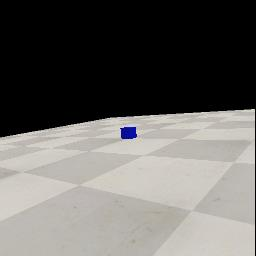box: (120, 127, 137, 139)
